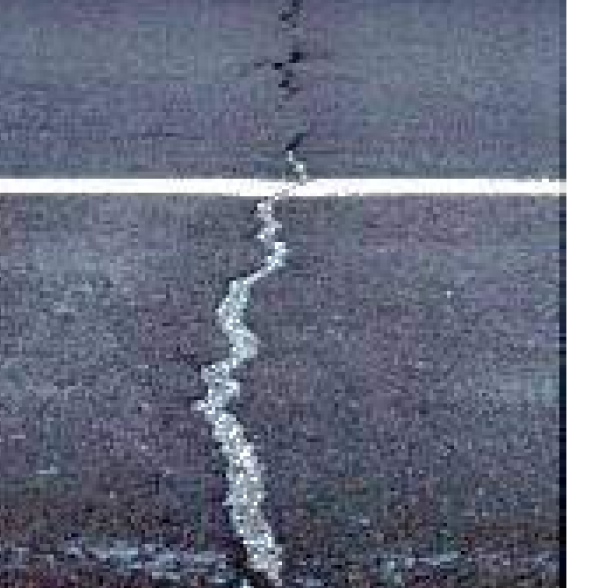Retak Melintang: (172, 4, 383, 588)
